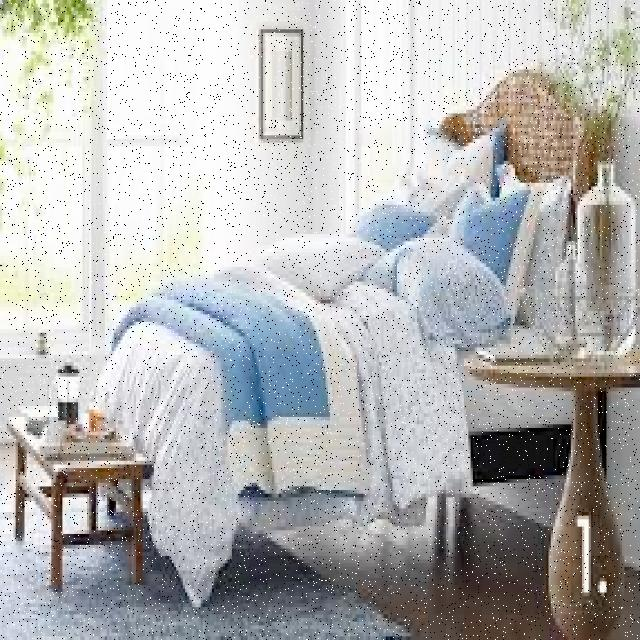bed: (111, 125, 585, 439)
